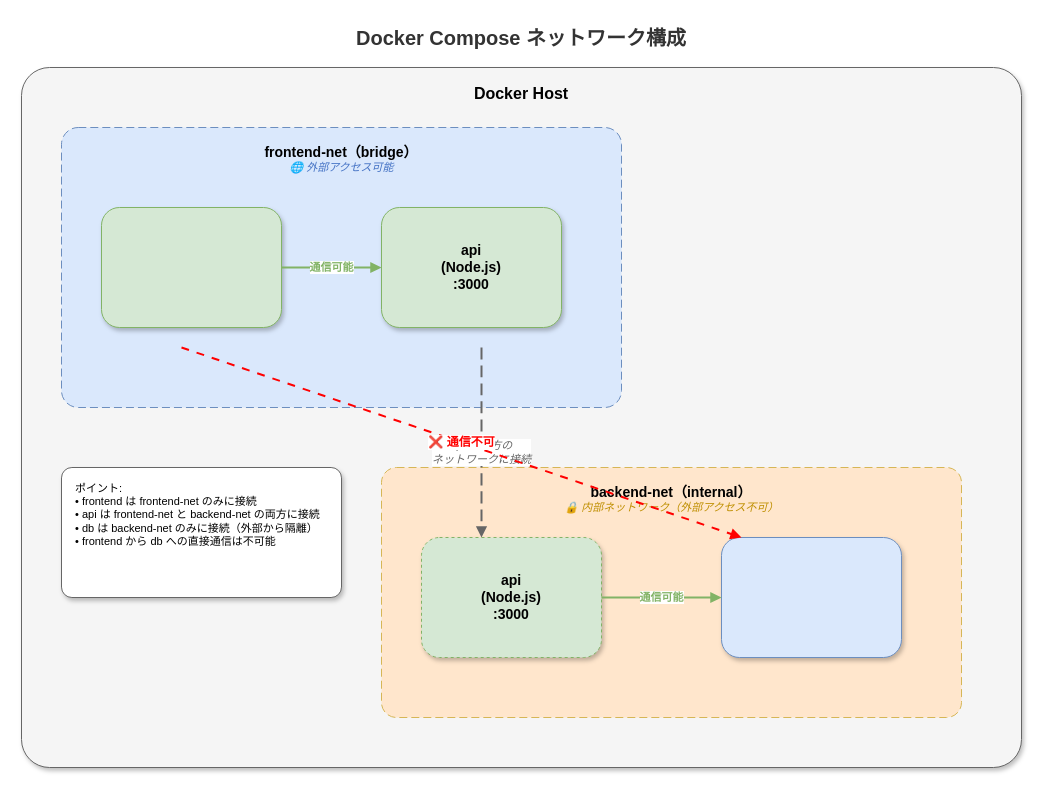
Some shapes in this 1045 by 792 pixel diagram are drawn without their labels. The centre of each missing label's shape, as x and y in pixels:
db (PostgreSQL) :5432: pixel 812 598
frontend (nginx) :80: pixel 192 268
